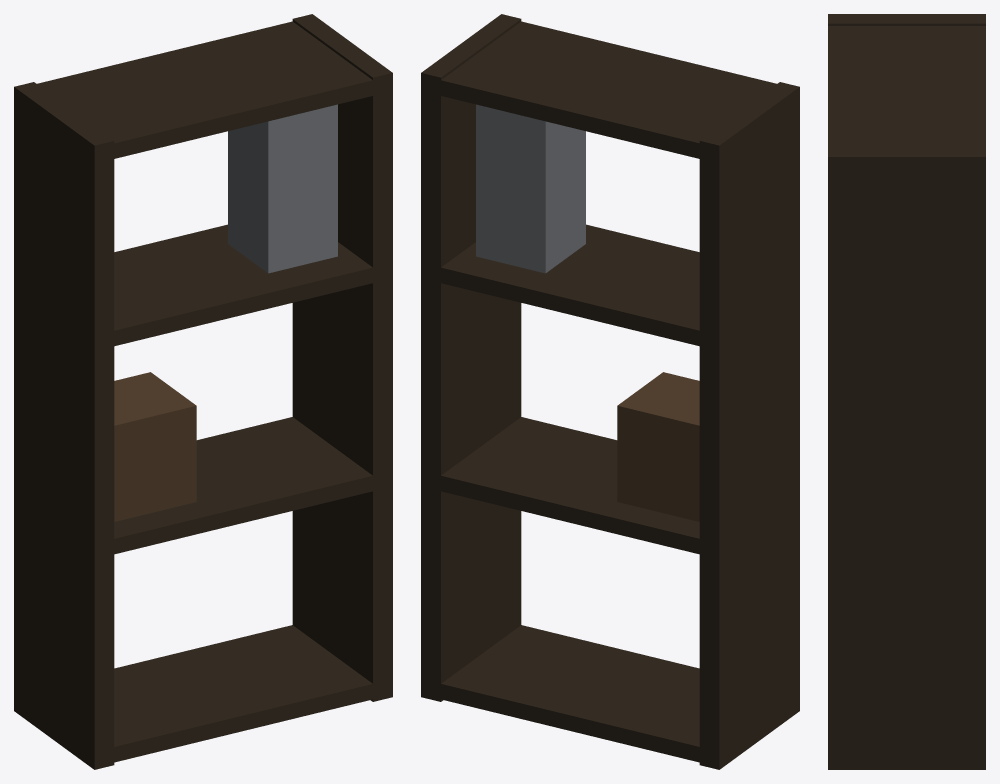
The model's file is welt_regal.glb.
The picture shows the model from 3 angles, left to right: view 1: azimuth 30°, elevation 25°; view 2: azimuth 150°, elevation 25°; view 3: azimuth 270°, elevation 25°; orthographic projection.
Parts seen in each view (by area): view 1: seite_l, seite_r, boden_3, boden_0, boden_2, boden_1, gegenstand_b, gegenstand_a; view 2: seite_l, seite_r, boden_3, boden_0, boden_2, boden_1, gegenstand_b, gegenstand_a; view 3: seite_r, boden_3, boden_2, boden_1, boden_0, seite_l.
Boxes of the visible parts, <box> form: seite_l: <box>14,82,114,769</box>; seite_r: <box>292,14,392,701</box>; boden_3: <box>14,21,392,163</box>; boden_0: <box>14,625,392,767</box>; boden_2: <box>14,224,392,350</box>; boden_1: <box>14,417,392,558</box>; gegenstand_b: <box>228,104,337,273</box>; gegenstand_a: <box>114,372,196,521</box>; seite_l: <box>699,82,799,769</box>; seite_r: <box>421,14,521,701</box>; boden_3: <box>421,21,799,163</box>; boden_0: <box>421,625,798,767</box>; boden_2: <box>421,224,799,350</box>; boden_1: <box>421,417,798,558</box>; gegenstand_b: <box>476,104,585,273</box>; gegenstand_a: <box>617,372,699,521</box>; seite_r: <box>828,147,985,769</box>; boden_3: <box>828,26,985,174</box>; boden_2: <box>828,343,985,358</box>; boden_1: <box>828,547,985,562</box>; boden_0: <box>828,752,985,764</box>; seite_l: <box>828,14,985,25</box>.
Size of the model in its own units: 0.6 by 1.2 by 0.28.
